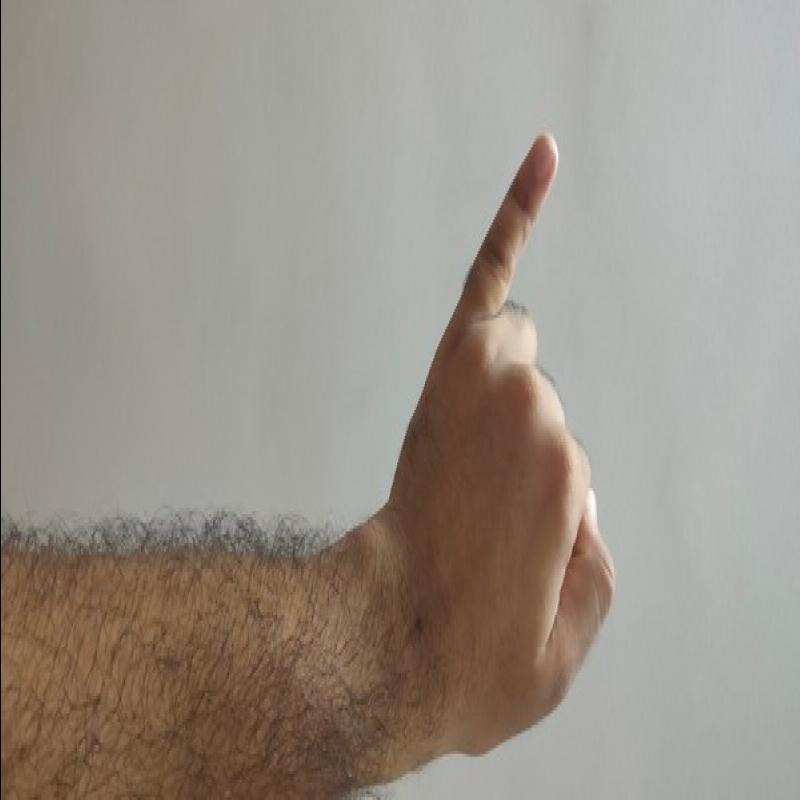Kartharee Mukham: (370, 132, 637, 766)
